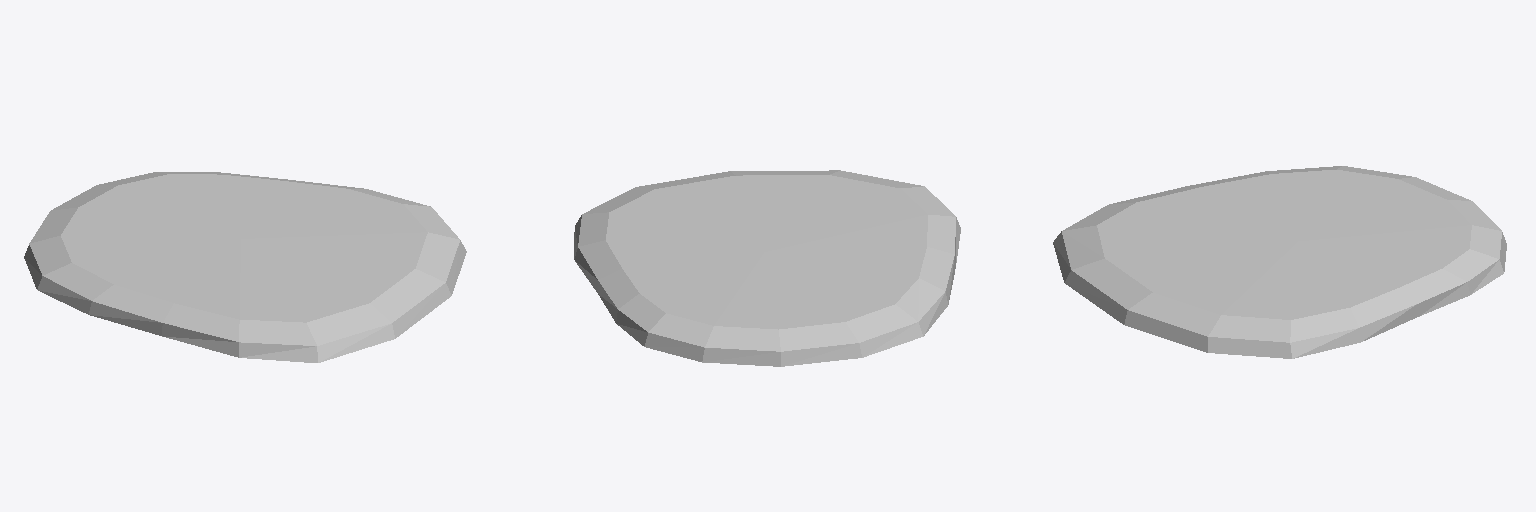
Rendered from dough_rolled_B.obj.
3 renders of one model, left to right at view 1: azimuth 30°, elevation 25°; view 2: azimuth 150°, elevation 25°; view 3: azimuth 270°, elevation 25°, orthographic.
Visible parts, largest first — view 1: dough_rolled_B; view 2: dough_rolled_B; view 3: dough_rolled_B.
Boxes of the visible parts, box(x1,y1,x2,y2) form: dough_rolled_B: box(24, 172, 466, 362); dough_rolled_B: box(574, 170, 960, 366); dough_rolled_B: box(1053, 166, 1506, 358).
Bounding box in the file's own units: 0.8363 × 0.05 × 0.8782.